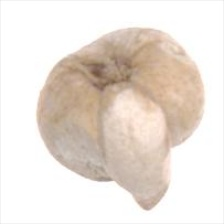L3: (101, 141, 178, 212)
L4: (36, 27, 206, 211)
